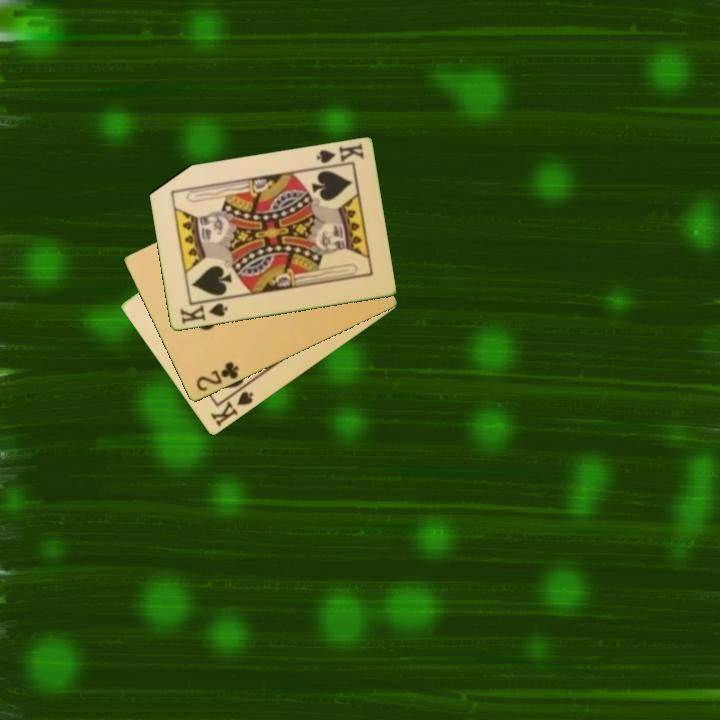2c: (192, 358, 242, 395)
Ks: (207, 388, 257, 430), (312, 140, 367, 171), (176, 296, 230, 327)
